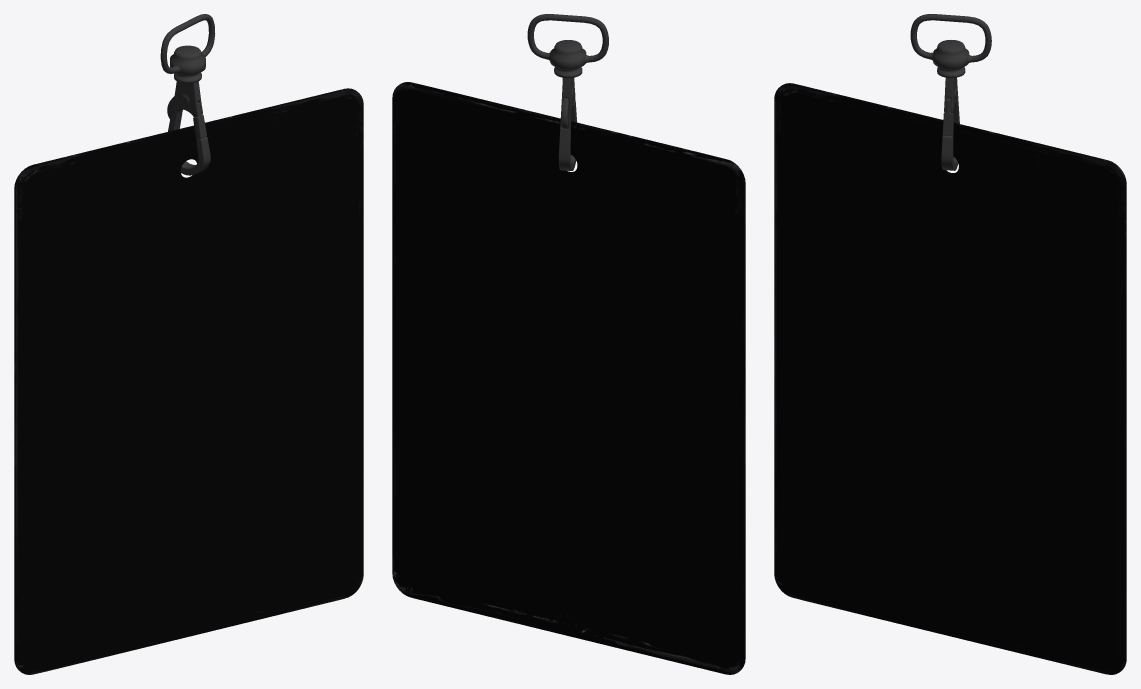
Rendered from tag4.glb.
3 renders of one model, left to right at view 1: azimuth 30°, elevation 25°; view 2: azimuth 150°, elevation 25°; view 3: azimuth 330°, elevation 25°, orthographic.
Visible parts, largest first — view 1: card, clamp, clip; view 2: card, clip, clamp; view 3: card, clip, clamp.
Part boxes in pixels (<box>): card: <box>14,88,363,674</box>; clamp: <box>167,81,210,175</box>; clip: <box>160,14,215,83</box>; card: <box>392,82,745,674</box>; clip: <box>527,14,608,78</box>; clamp: <box>558,77,577,170</box>; card: <box>774,83,1126,674</box>; clip: <box>910,14,991,77</box>; clamp: <box>941,77,959,170</box>.
Size of the model in its own units: 0.7164 by 1.21 by 0.0903.
2 materials, 1 textured.
